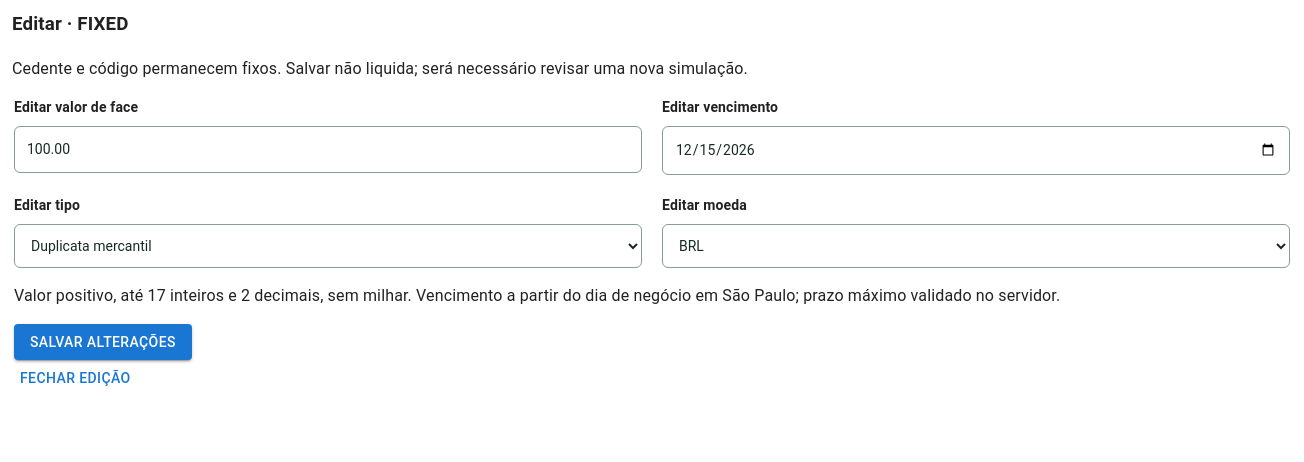
Test: uncertain response blocks another save until reopening
This screenshot has width=1304, height=462.
Click the button "Salvar alterações" at (103, 342), box [14,324,192,360]
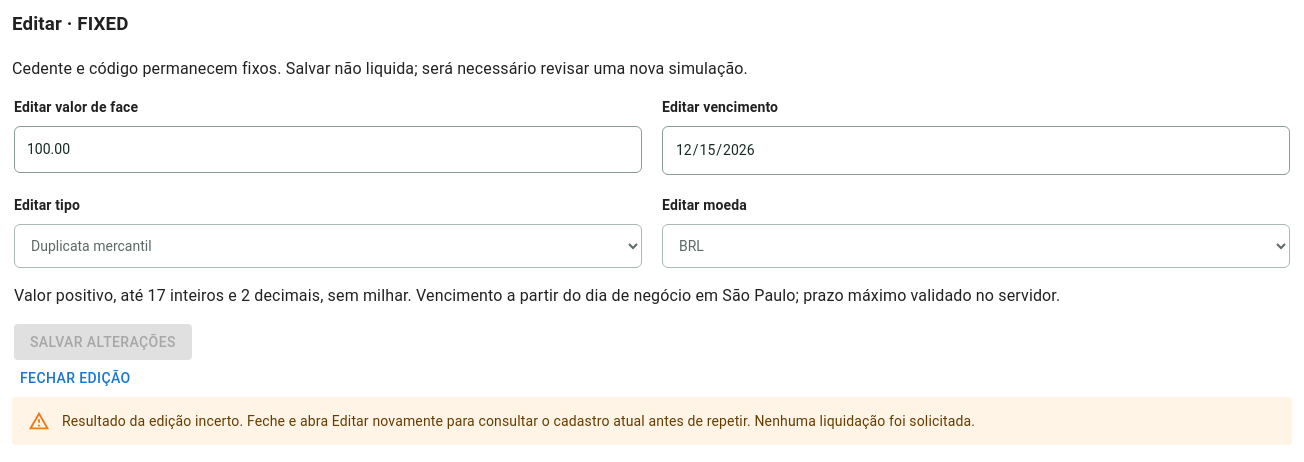
Check: the text "Resultado da edição incerto" is shown, box [62,412,975,428]
Check: the button "Salvar alterações" is disabled, box [14,324,192,360]
